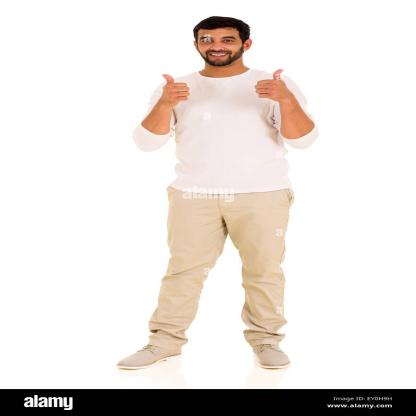Thumbs-Up: (155, 72, 190, 103), (254, 69, 288, 99)
